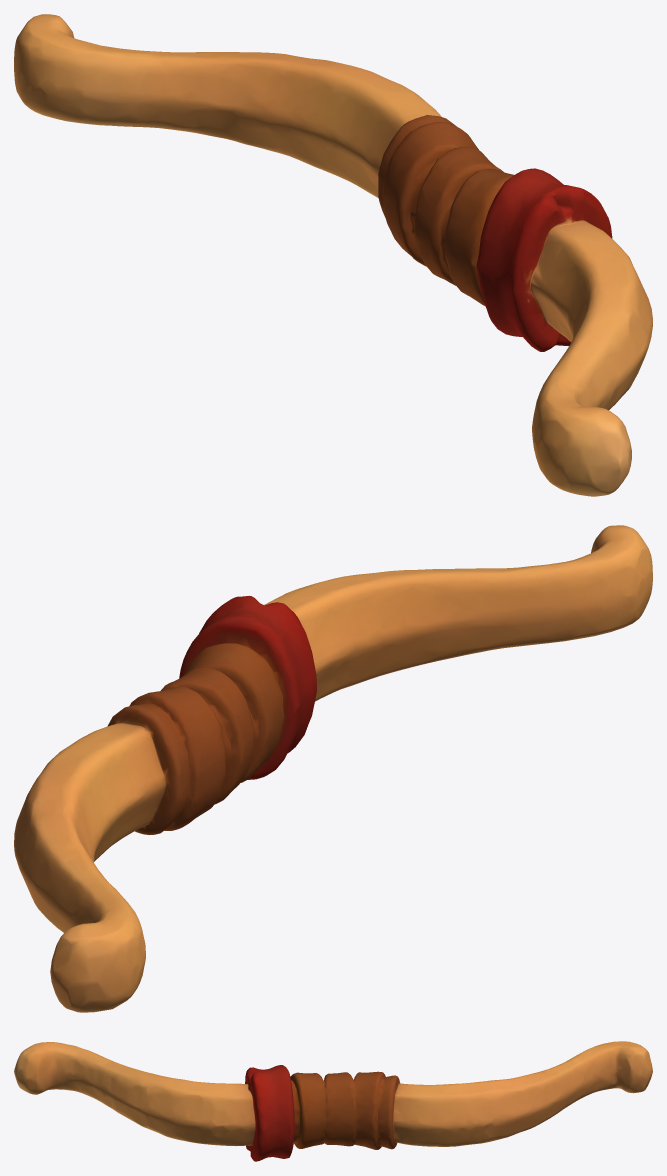
Rendered from Arm_long_bow-QfnN7nES.glb.
3 renders of one model, top to bottom at view 1: azimuth 30°, elevation 25°; view 2: azimuth 150°, elevation 25°; view 3: azimuth 270°, elevation 25°, orthographic. The views are drawn at different scales.
Parts seen in each view (by area): view 1: Arm_long_bow; view 2: Arm_long_bow; view 3: Arm_long_bow.
Part boxes in pixels (bbox=[...]): Arm_long_bow: bbox=[14, 14, 652, 496]; Arm_long_bow: bbox=[14, 525, 652, 1012]; Arm_long_bow: bbox=[14, 1041, 652, 1161].
Bounding box in the file's own units: 0.5877 × 0.3422 × 2.2.
1 material, 1 textured.
